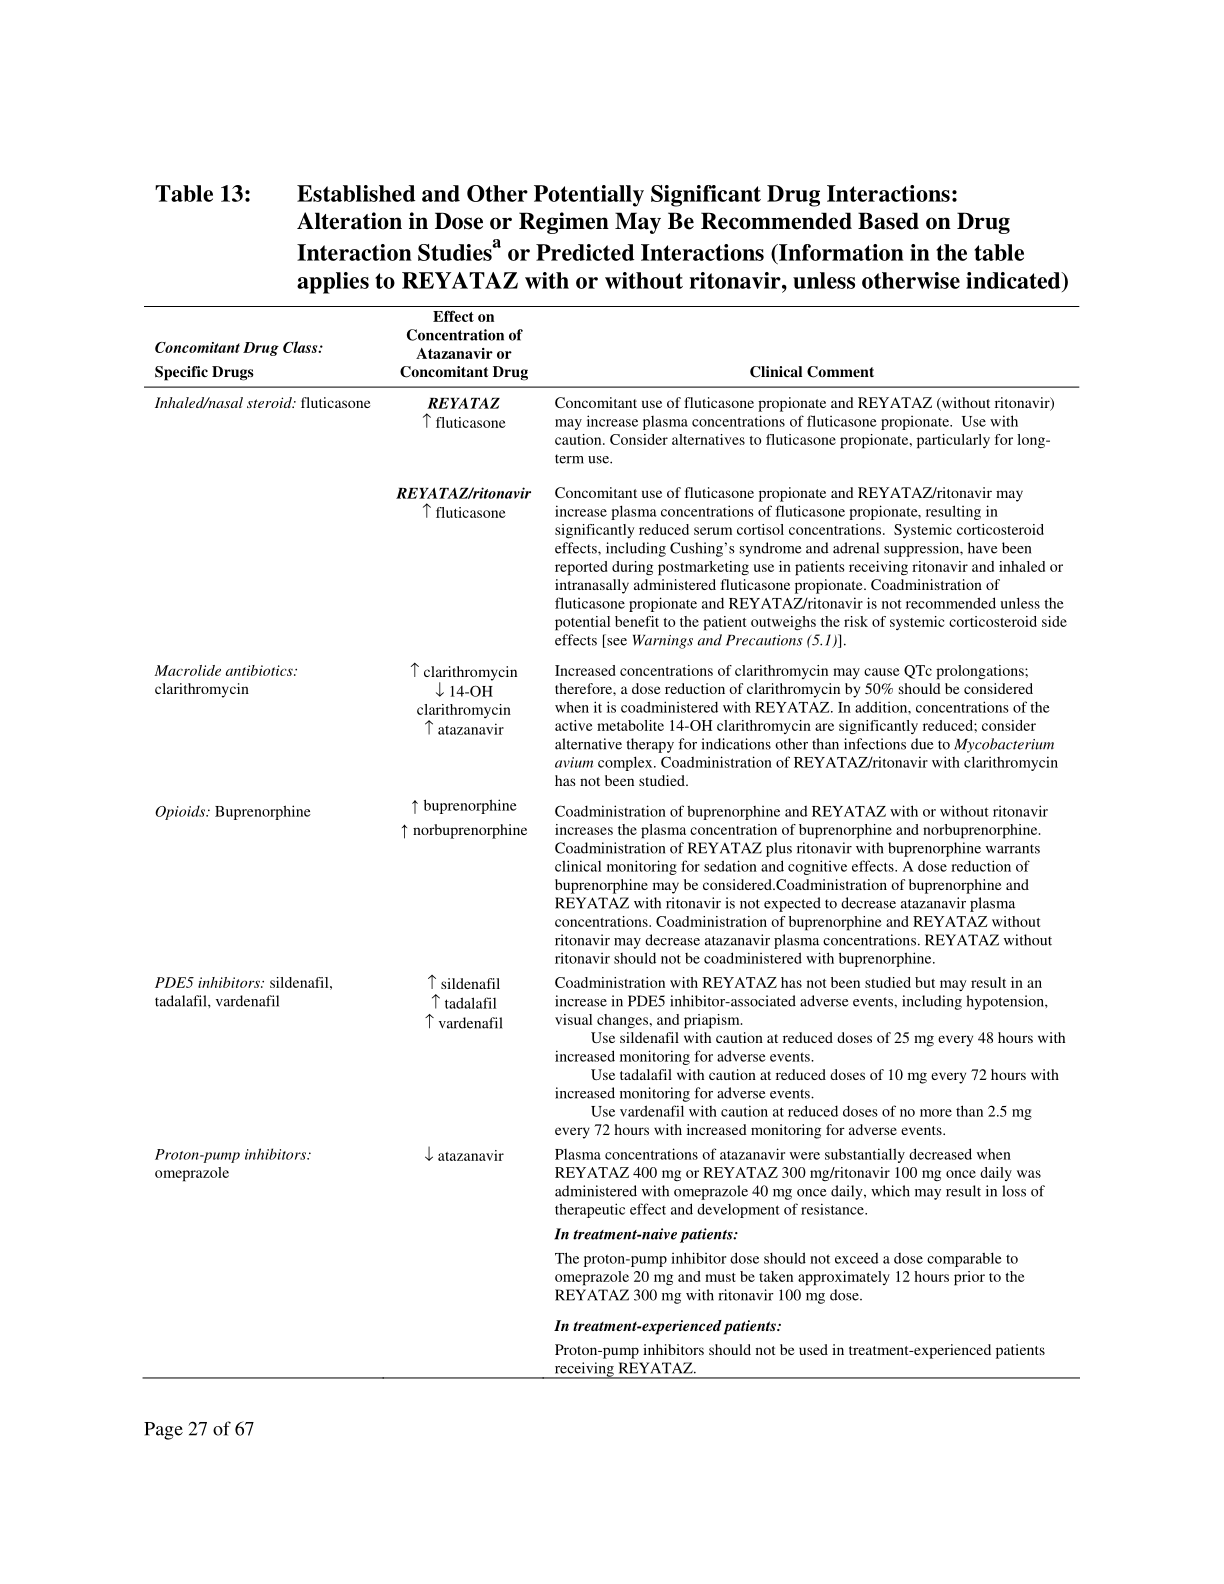partial_lined: (139, 303, 1083, 1382)
